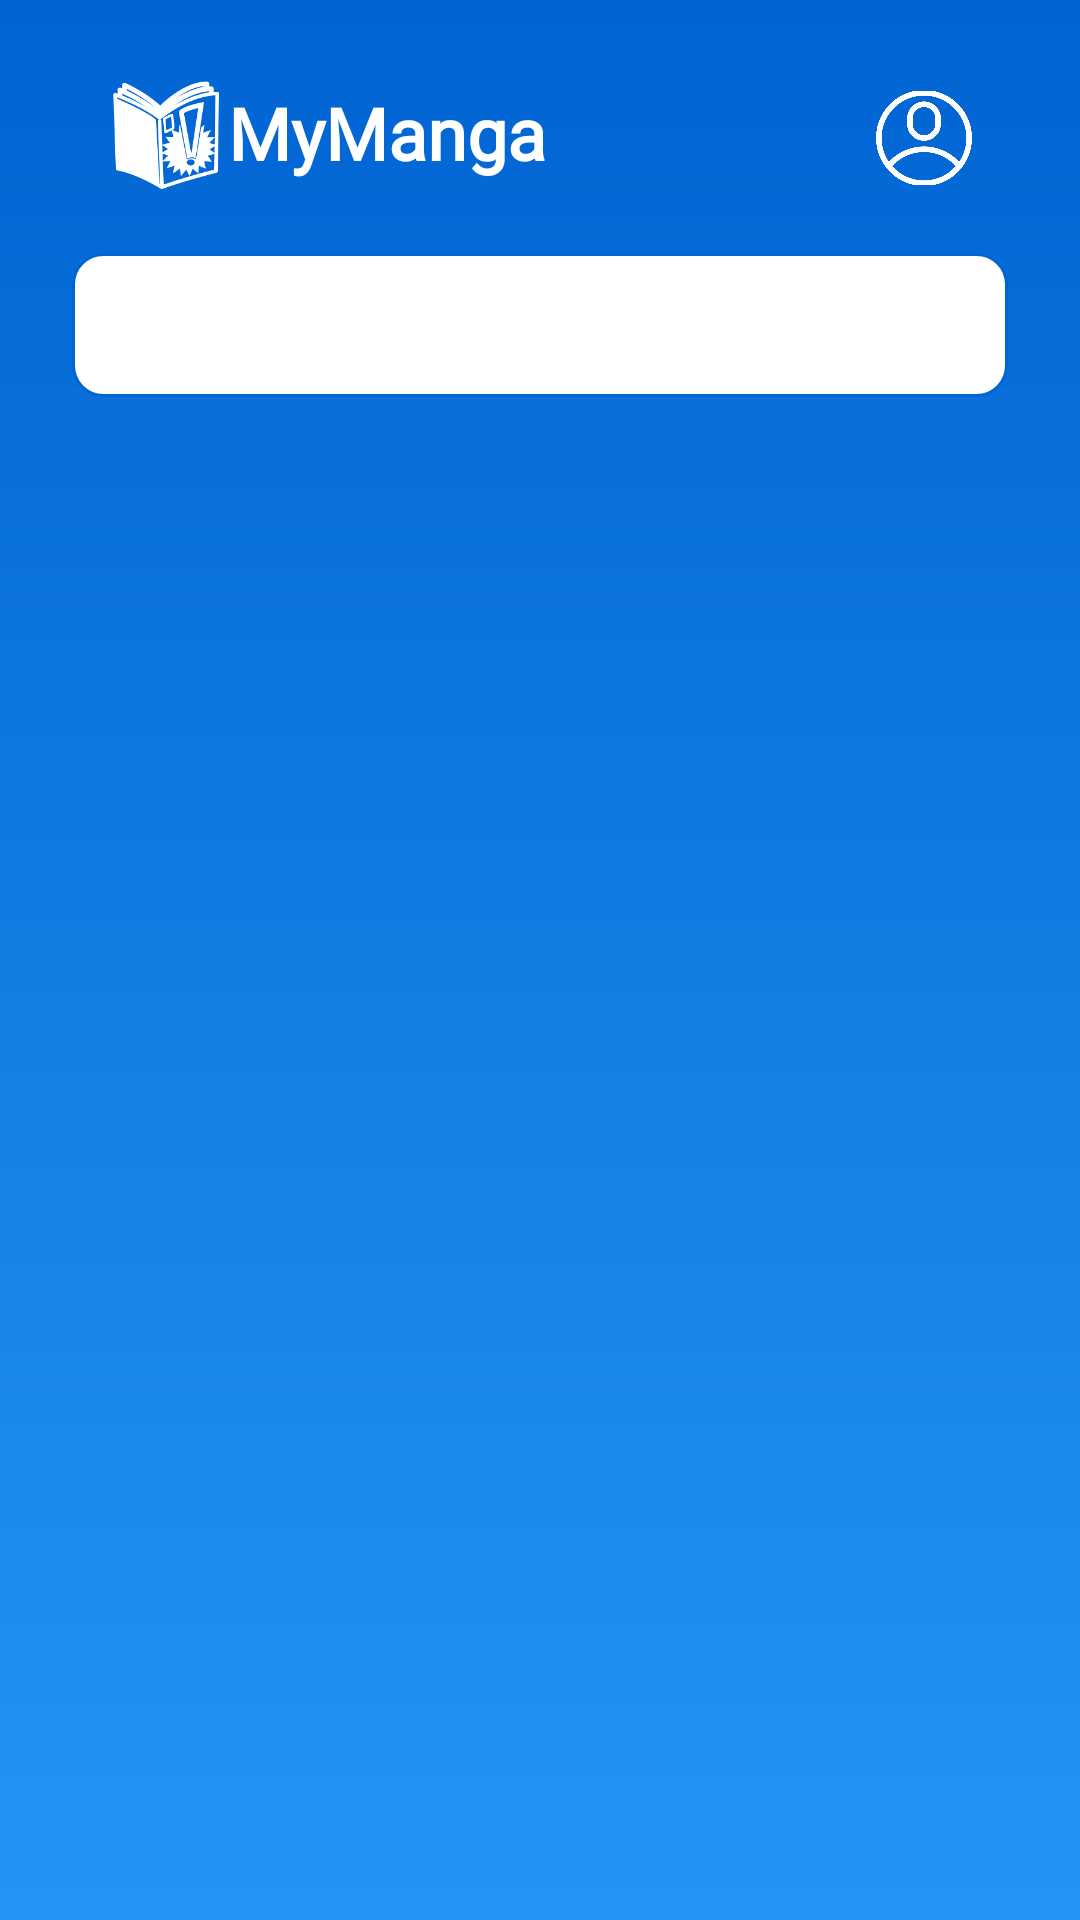

Icon bounding boxes for this 1080 × 1920 phone screenshot, format (x1, y1, x2, y2):
profile: (876, 91, 972, 185)
